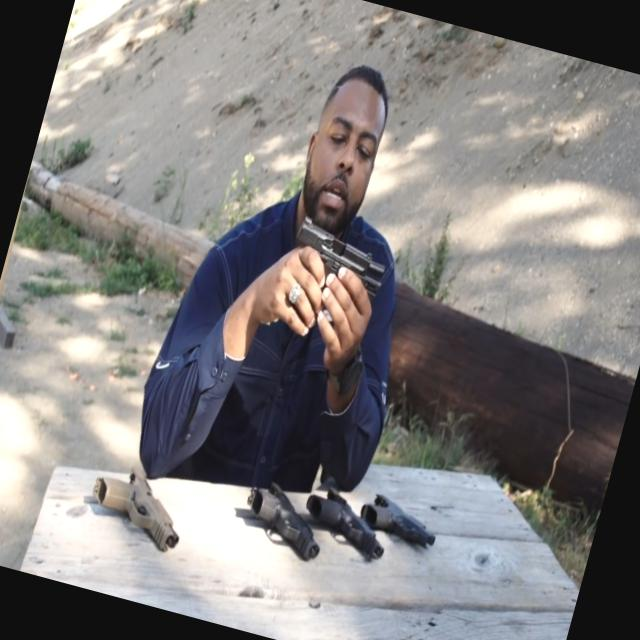handgun: (276, 200, 400, 345), (75, 456, 206, 574), (225, 464, 334, 578), (292, 486, 391, 570), (349, 478, 440, 562)
